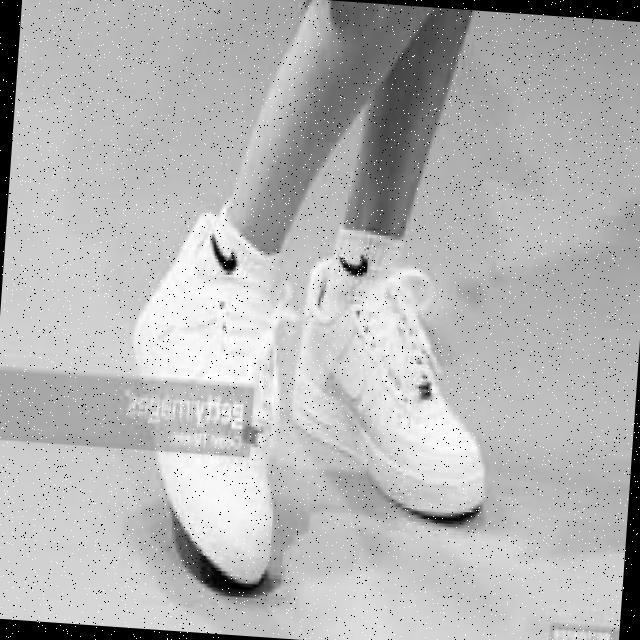Nike: (208, 227, 247, 275), (337, 242, 376, 278)
